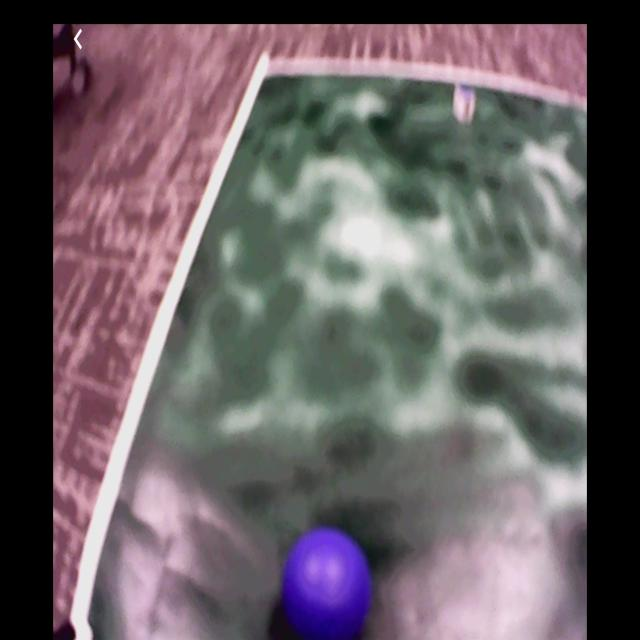ball: (283, 528, 371, 640)
